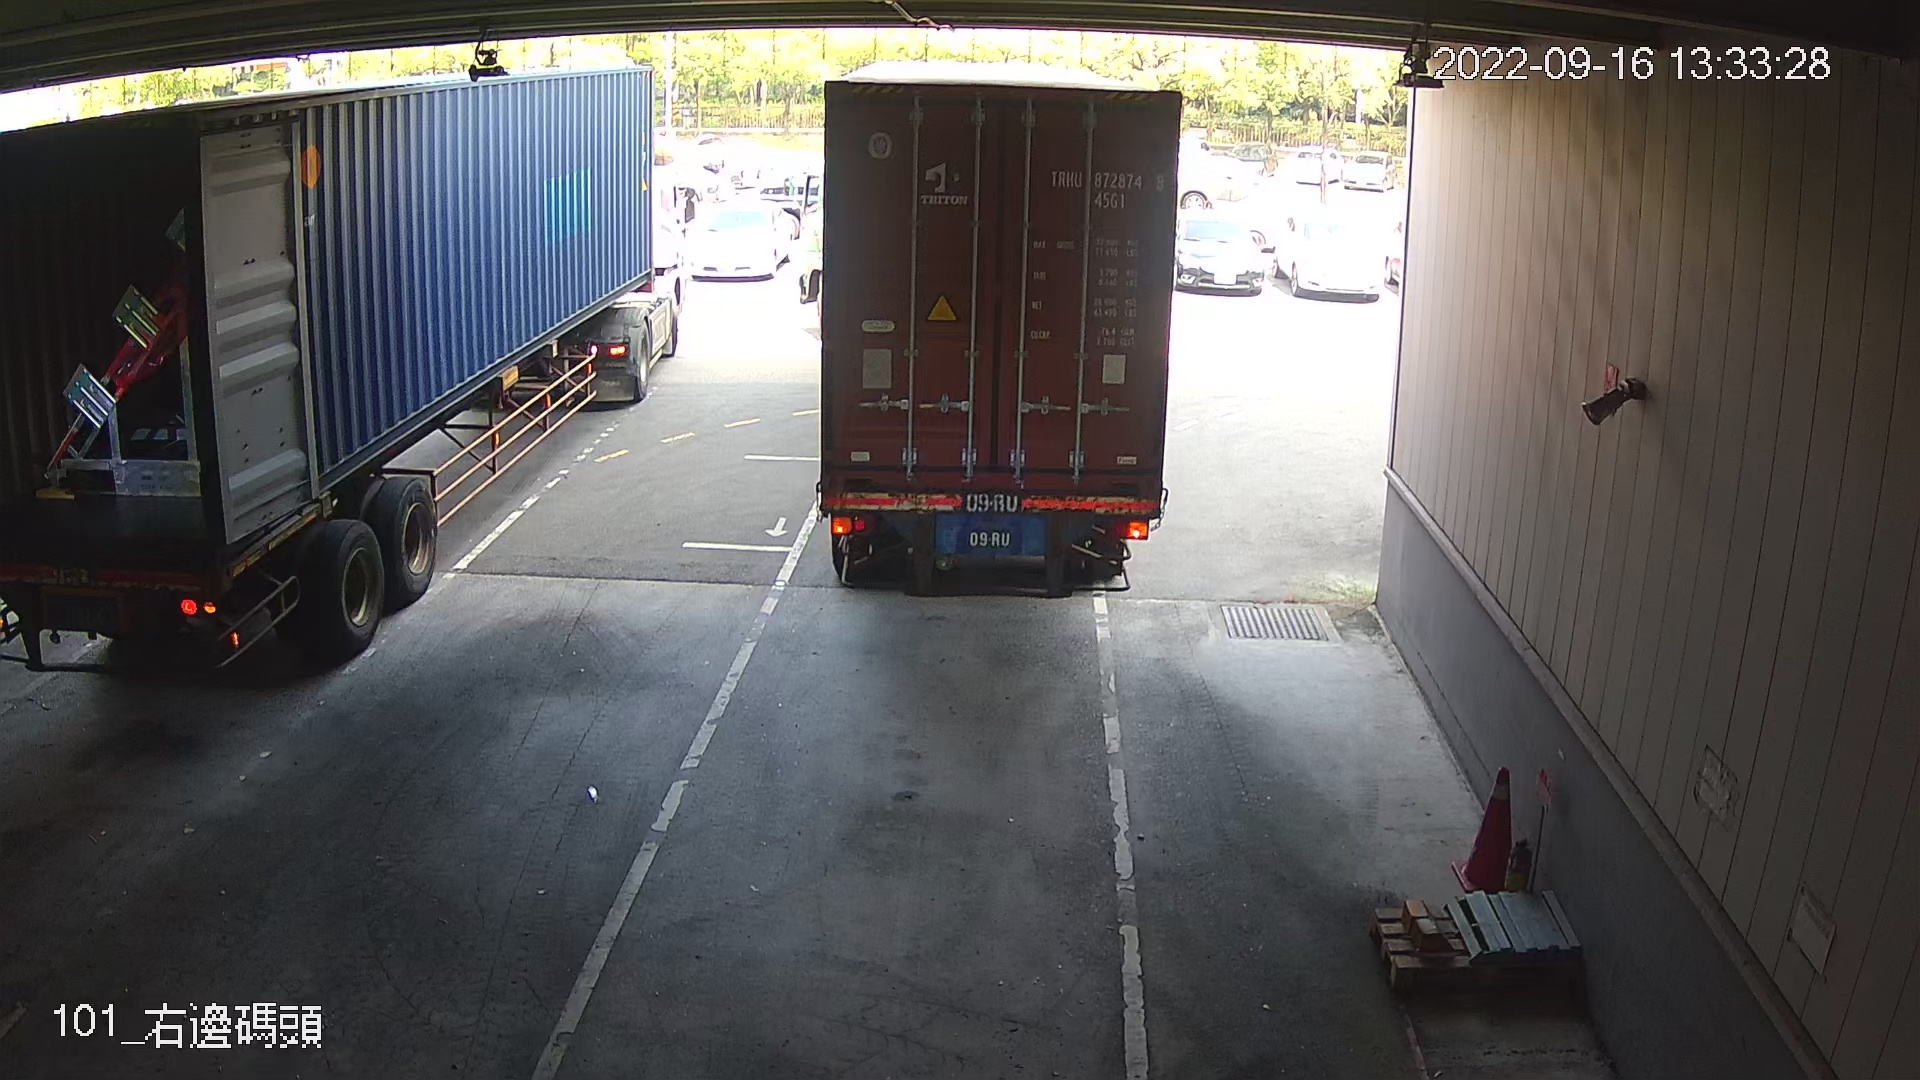container: (1040, 156, 1170, 218)
